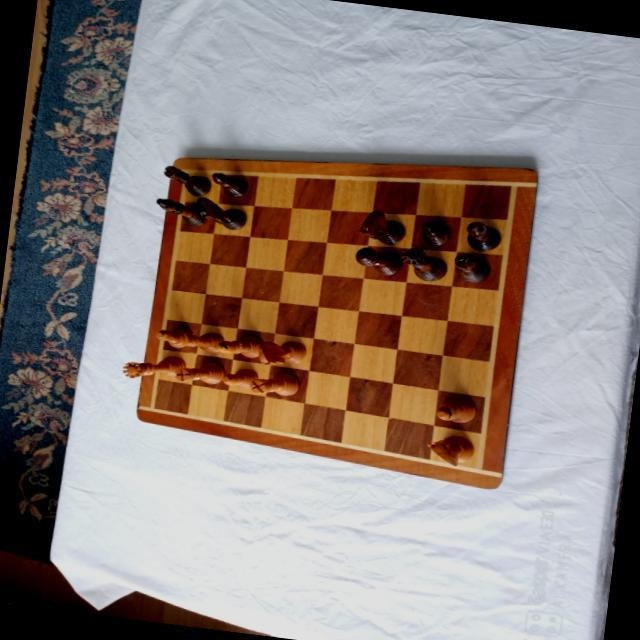black-bishop: (152, 194, 207, 226)
black-king: (353, 244, 403, 276)
black-knight: (356, 206, 408, 245), (193, 194, 249, 230)
black-pawn: (464, 220, 503, 252), (208, 170, 249, 198), (417, 219, 452, 247)
black-queen: (397, 243, 449, 282)
black-rook: (159, 163, 212, 197), (452, 250, 492, 282)
white-bishop: (212, 330, 263, 358), (434, 392, 477, 423)
white-king: (167, 325, 225, 353)
white-knight: (424, 430, 475, 466), (256, 335, 306, 369)
white-pawn: (221, 364, 258, 388), (153, 323, 190, 343)
white-queen: (120, 348, 186, 384)
white-rook: (248, 367, 300, 397), (173, 356, 225, 384)
